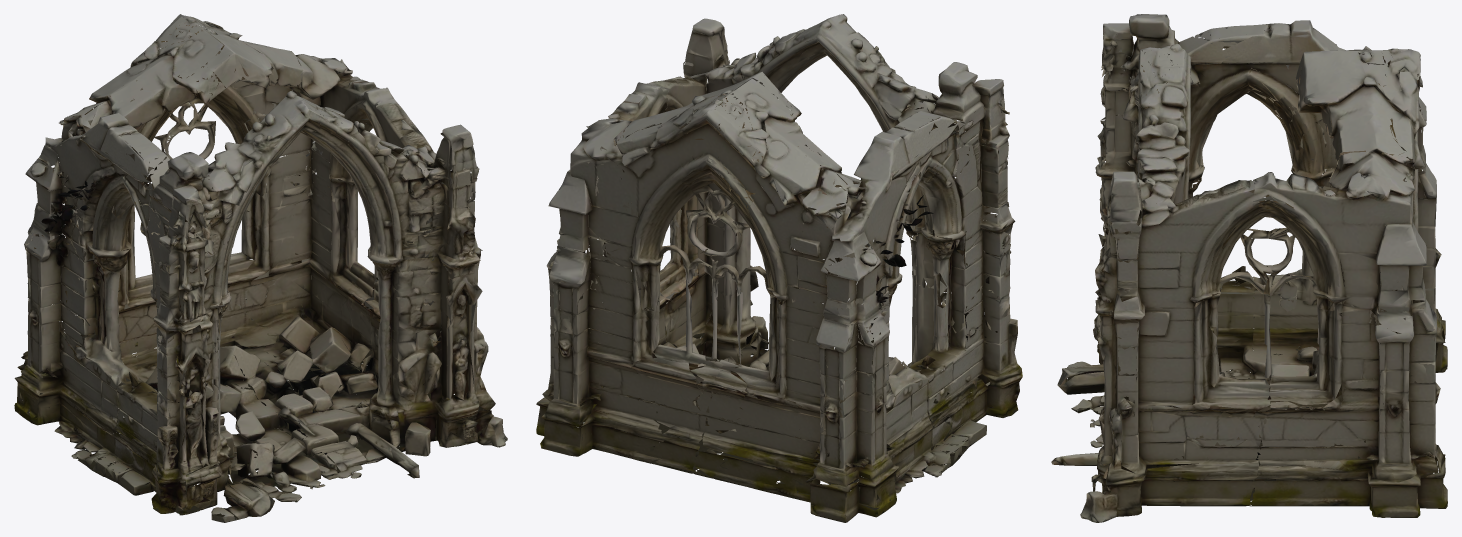
File: chapel.glb
3 views of the same model, side by side, from view 1: azimuth 30°, elevation 25°; view 2: azimuth 150°, elevation 25°; view 3: azimuth 270°, elevation 25° (orthographic). The views are drawn at different scales.
Visible parts, largest first — view 1: tripo_node_f45cd38f; view 2: tripo_node_f45cd38f; view 3: tripo_node_f45cd38f.
Boxes of the visible parts, bbox=[...] form: tripo_node_f45cd38f: bbox=[14, 14, 507, 522]; tripo_node_f45cd38f: bbox=[536, 14, 1022, 522]; tripo_node_f45cd38f: bbox=[1051, 14, 1447, 522].
Size of the model in its own units: 0.9597 by 0.9786 by 0.8984.
Materials: 1 (1 with a texture image).
